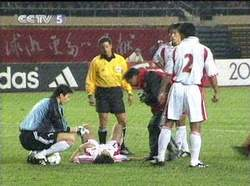fall: (70, 120, 131, 164)
